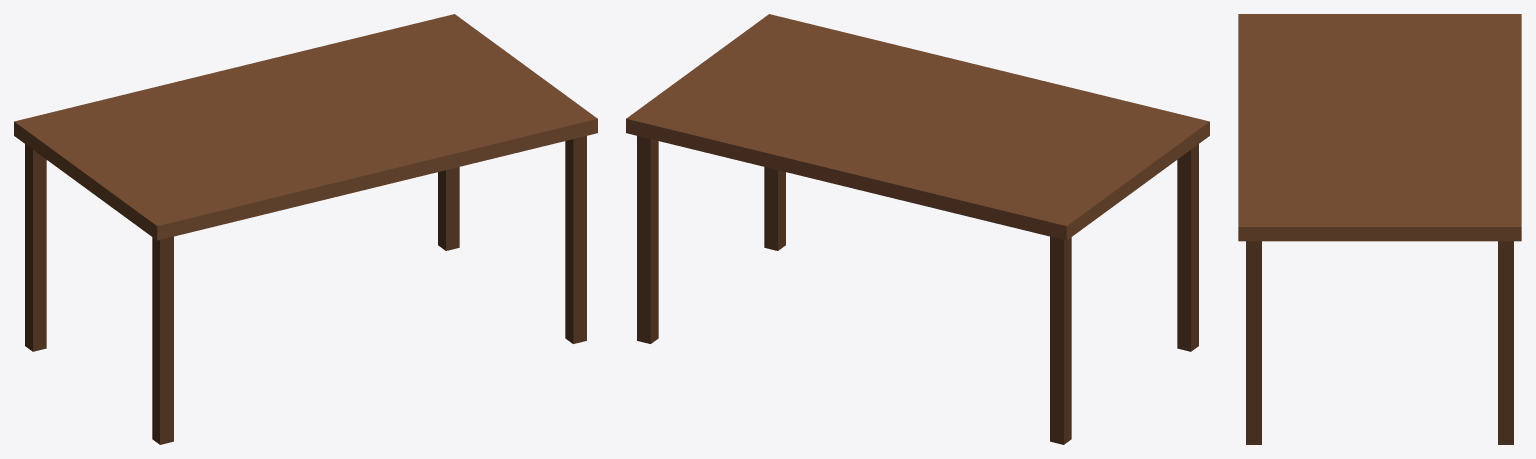
Rendered from dining-table.glb.
3 renders of one model, left to right at view 1: azimuth 30°, elevation 25°; view 2: azimuth 150°, elevation 25°; view 3: azimuth 270°, elevation 25°, orthographic.
Bounding box in the file's own units: 160 × 77.5 × 90.
